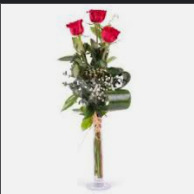RedRose: (60, 17, 86, 35), (101, 23, 118, 45), (84, 8, 108, 23)
